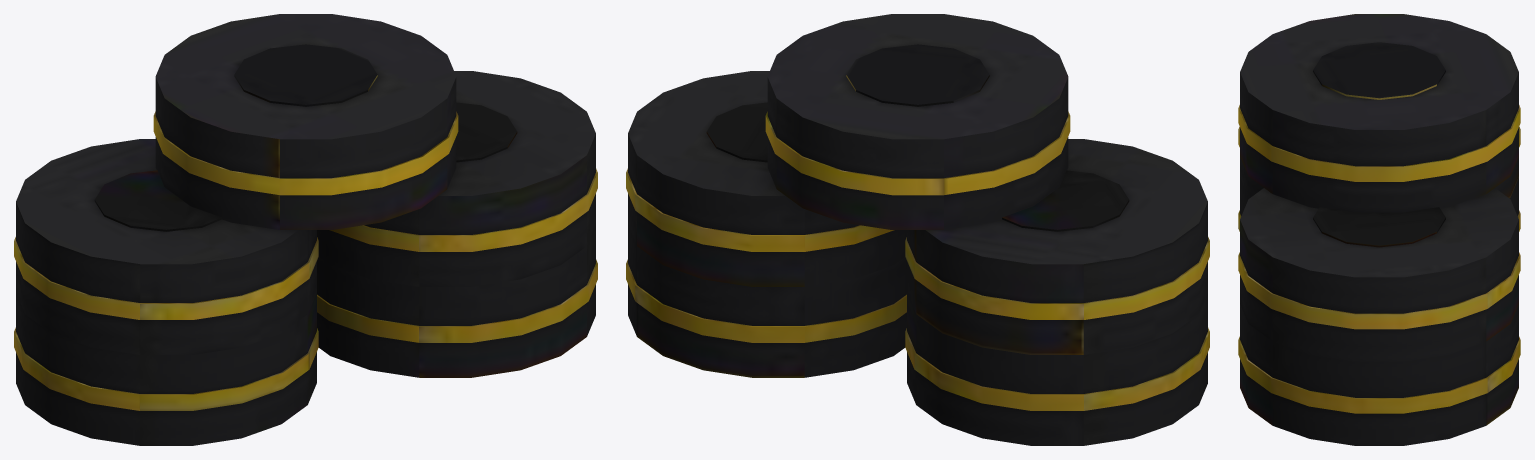
File: pila_ruedas.glb
3 renders of one model, left to right at view 1: azimuth 30°, elevation 25°; view 2: azimuth 150°, elevation 25°; view 3: azimuth 270°, elevation 25°, orthographic. The views are drawn at different scales.
Parts seen in each view (by area): view 1: pila_ruedas; view 2: pila_ruedas; view 3: pila_ruedas.
Part boxes in pixels (<box>): pila_ruedas: <box>14,14,597,445</box>; pila_ruedas: <box>626,14,1209,445</box>; pila_ruedas: <box>1238,14,1520,445</box>.
Bounding box in the file's own units: 1.74 × 0.846 × 0.85.
Materials: 1 (1 with a texture image).
